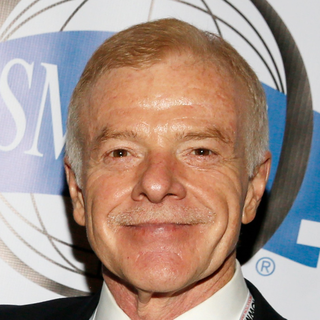eye: (181, 140, 225, 164), (99, 141, 140, 165)
